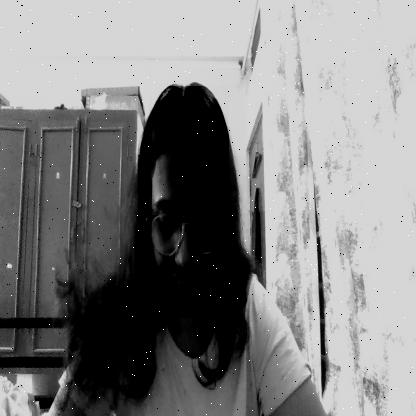Normal: (138, 86, 229, 318)
